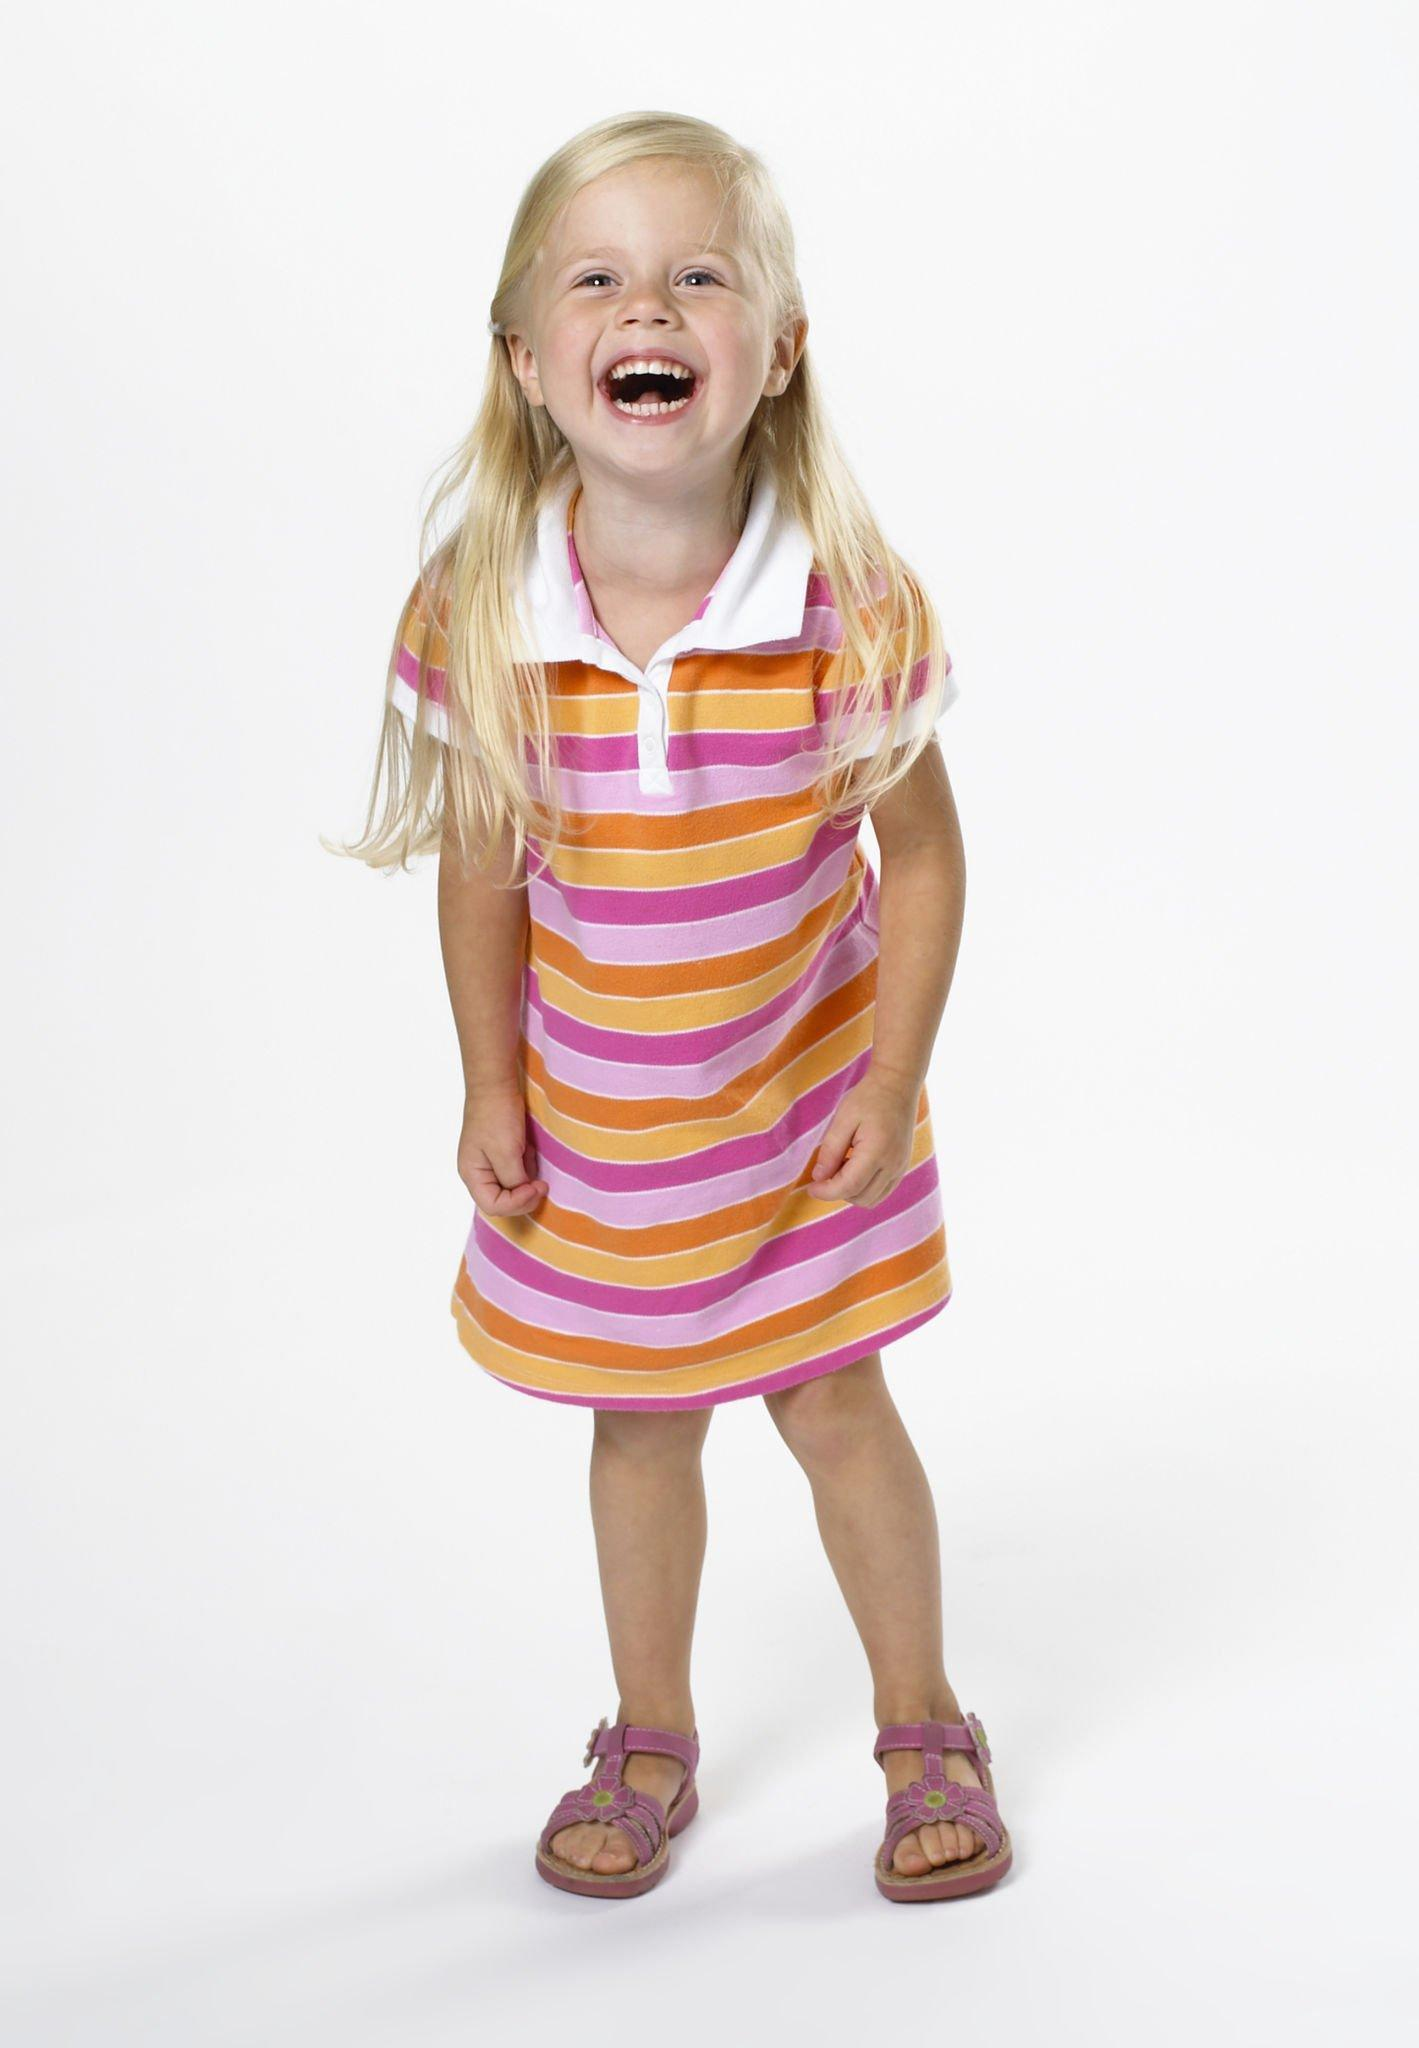Healthy: (512, 132, 798, 523)
